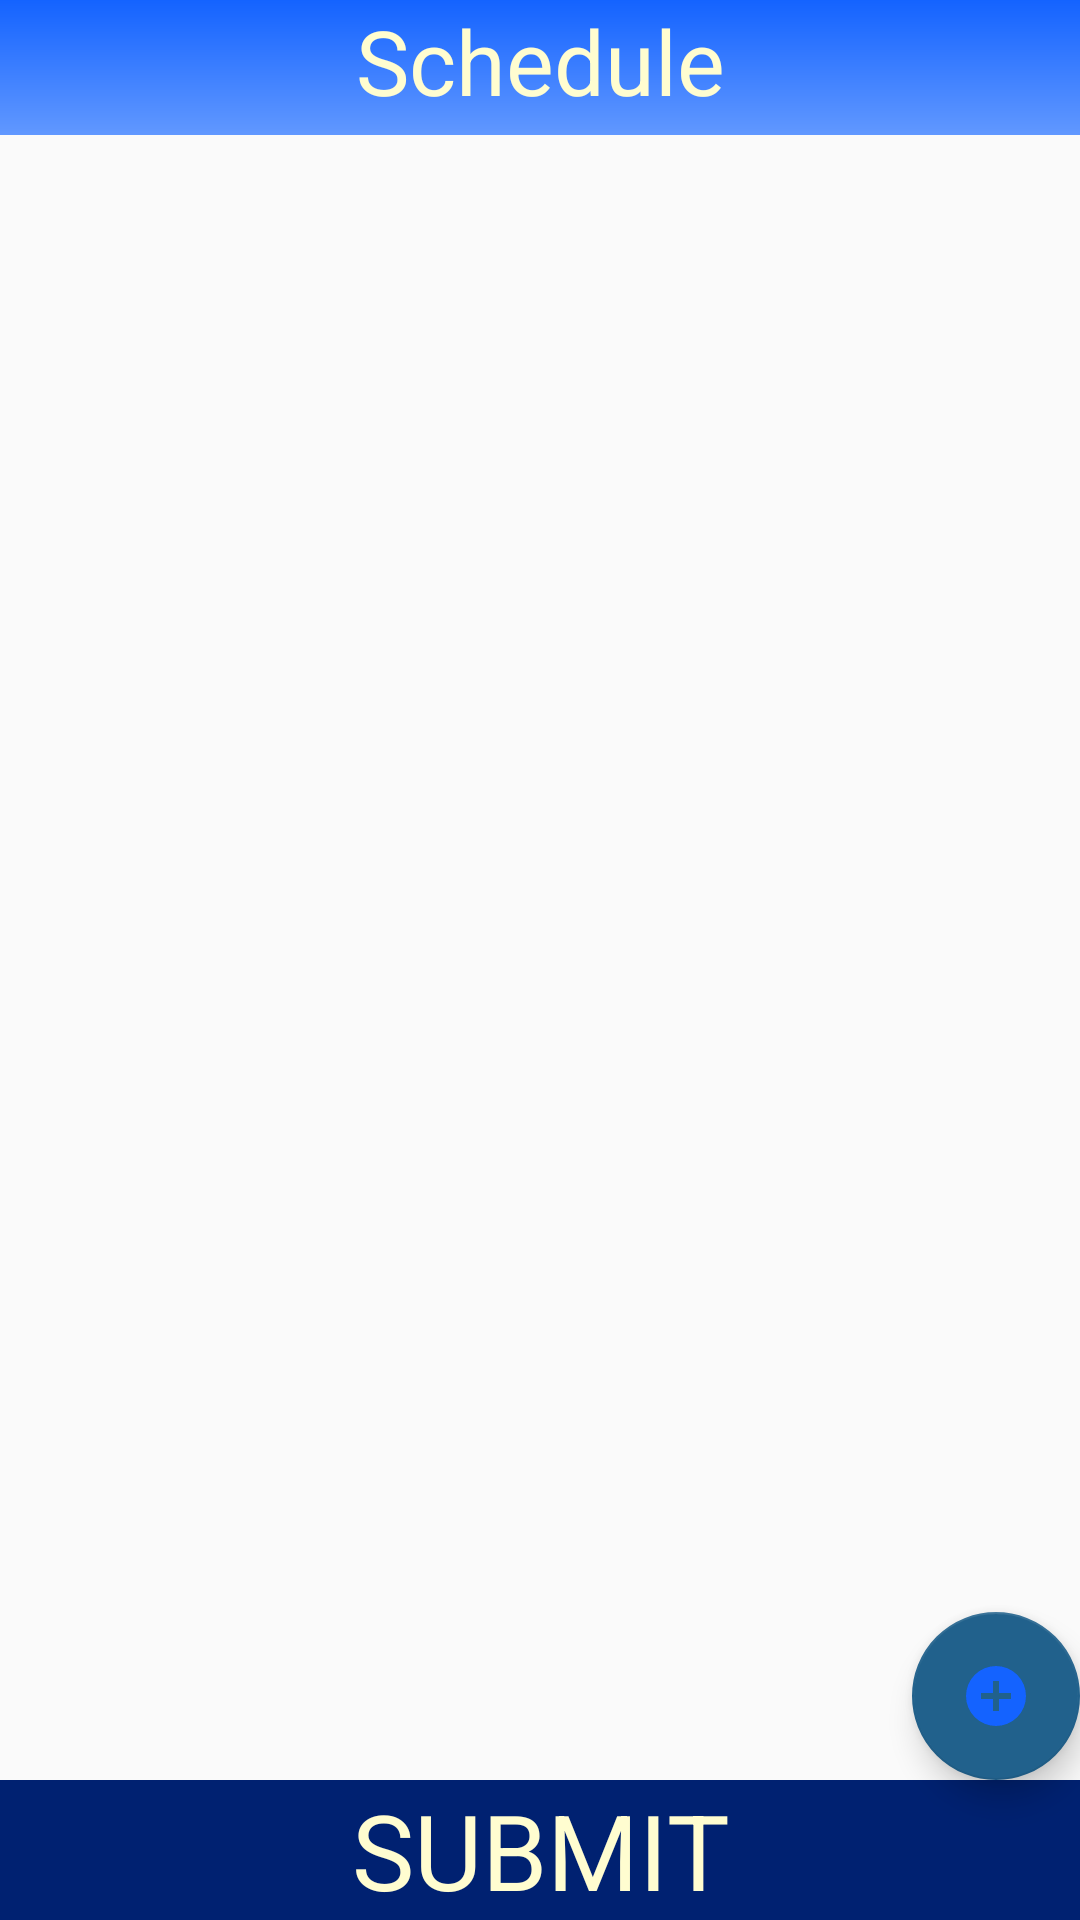

Icon click points for this 1080×1920 phone screenshot, format point (x, y):
plus circle: point (996, 1696)
